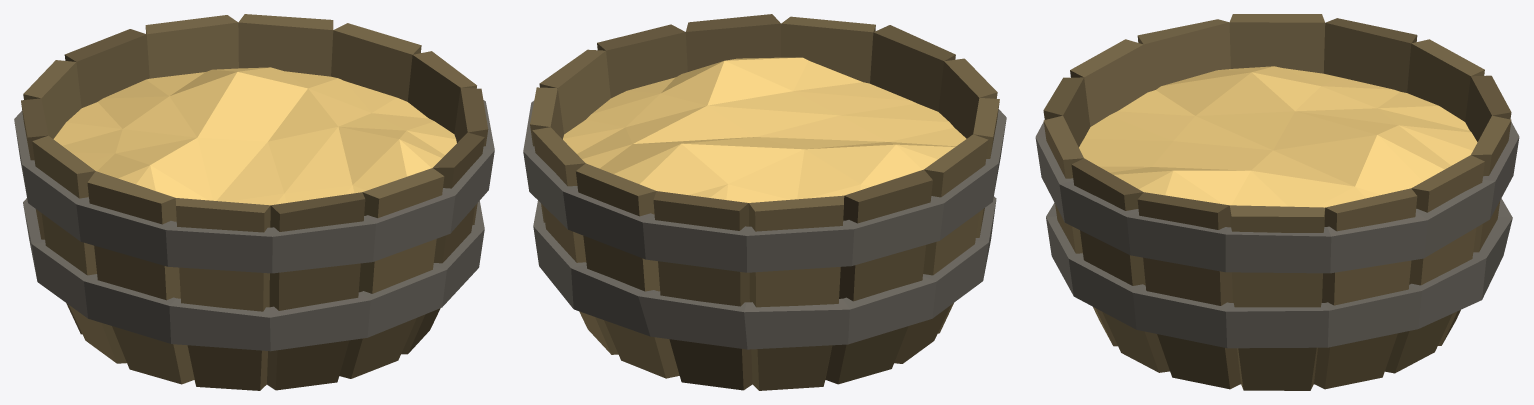
Rendered from Trough_2.fbx.
3 renders of one model, left to right at view 1: azimuth 30°, elevation 25°; view 2: azimuth 150°, elevation 25°; view 3: azimuth 270°, elevation 25°, orthographic.
Parts seen in each view (by area): view 1: Trough_2; view 2: Trough_2; view 3: Trough_2.
Part boxes in pixels (x1=…): Trough_2: x1=14, y1=14, x2=494, y2=390; Trough_2: x1=523, y1=14, x2=1006, y2=390; Trough_2: x1=1035, y1=14, x2=1519, y2=390.
Bounding box in the file's own units: 78.75 × 37.82 × 80.77.
